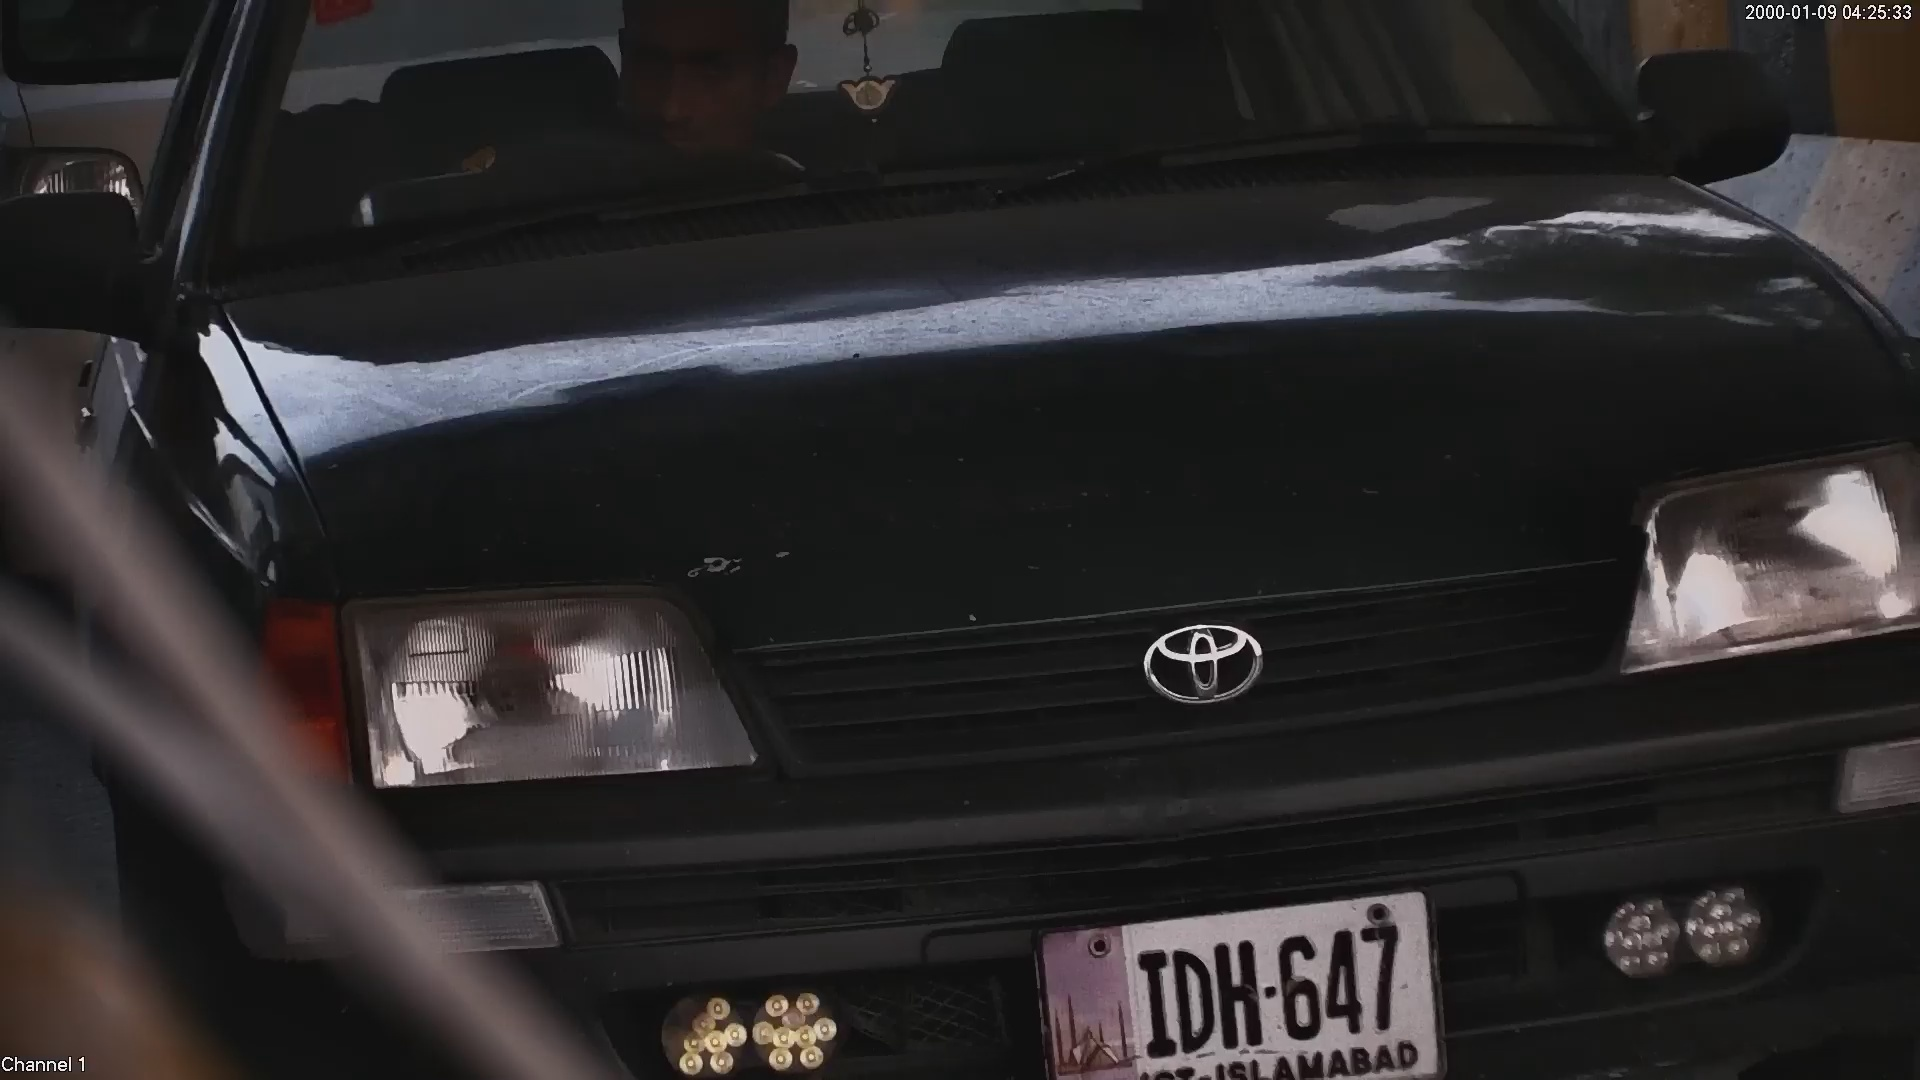Number_Plate: (1002, 881, 1454, 1079)
Undefined: (254, 588, 745, 788), (1628, 449, 1908, 657), (1128, 623, 1278, 709)
